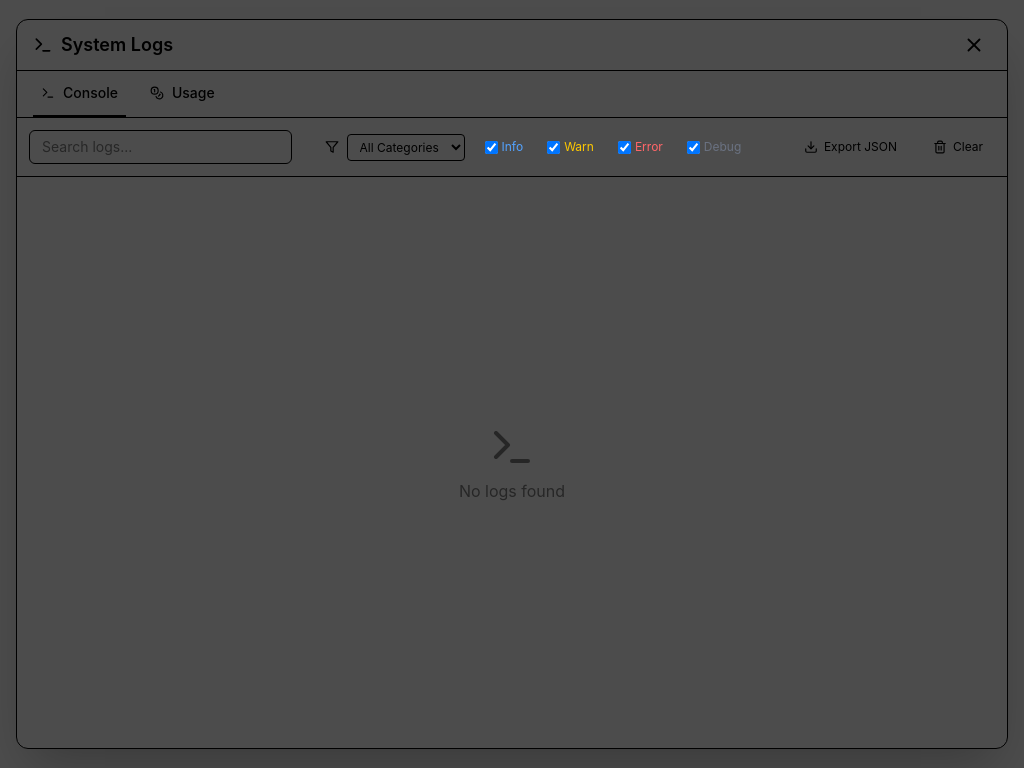
Test: LogViewer › groups overview, tokens, and api key stats under the usage tab
Expected: the button "Console" is shown, [33,71,126,117]
Click the button "Usage" at (182, 94), box [142,71,223,117]
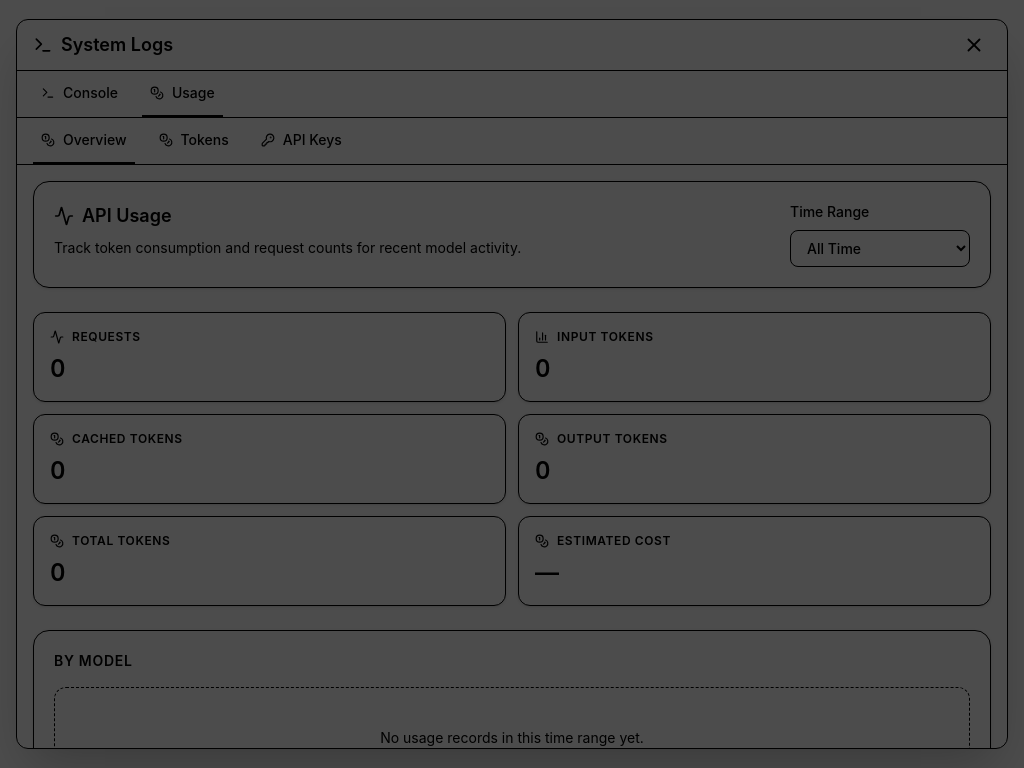
Expected: the button "Overview" is shown, [33,118,134,164]
Expected: the button "Tokens" is shown, [150,118,237,164]
Expected: the button "API Keys" is shown, [253,118,350,164]
